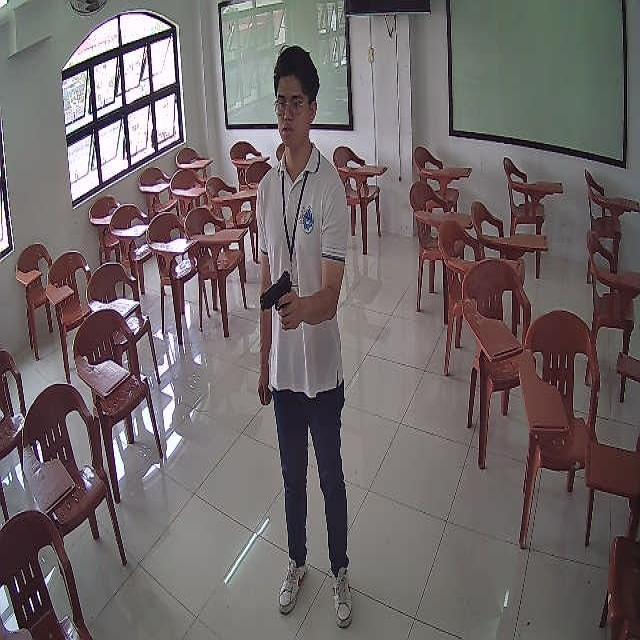pistol: (261, 272, 293, 315)
